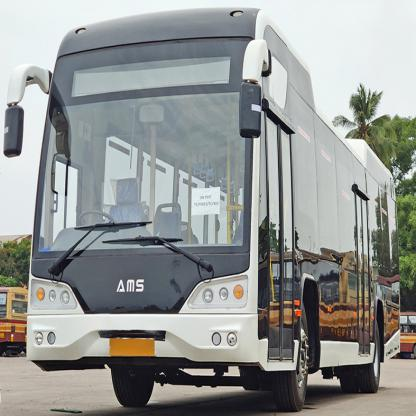bus: (4, 10, 416, 415)
